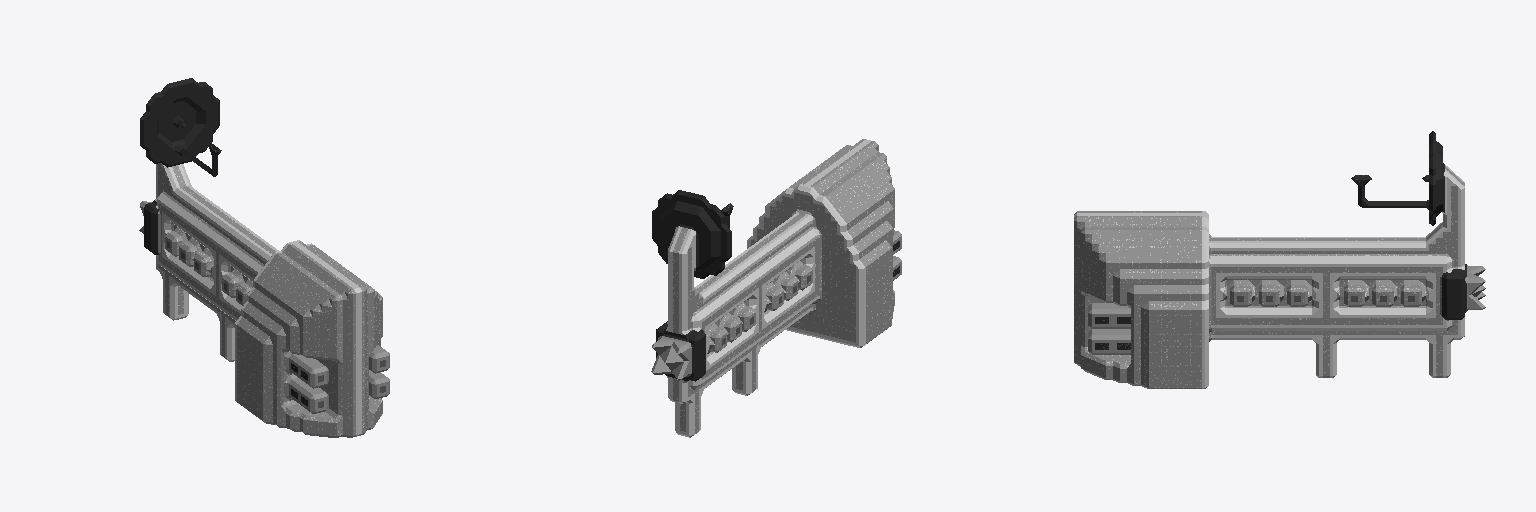
3 renders of one model, left to right at view 1: azimuth 30°, elevation 25°; view 2: azimuth 150°, elevation 25°; view 3: azimuth 270°, elevation 25°, orthographic.
Bounding box in the file's own units: 19 × 37 × 58.
Materials: 1 (1 with a texture image).